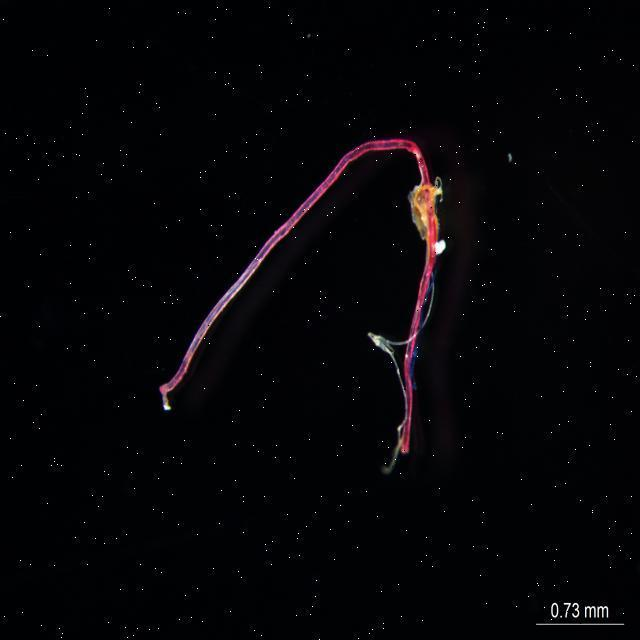Fibre: (154, 130, 438, 482)
